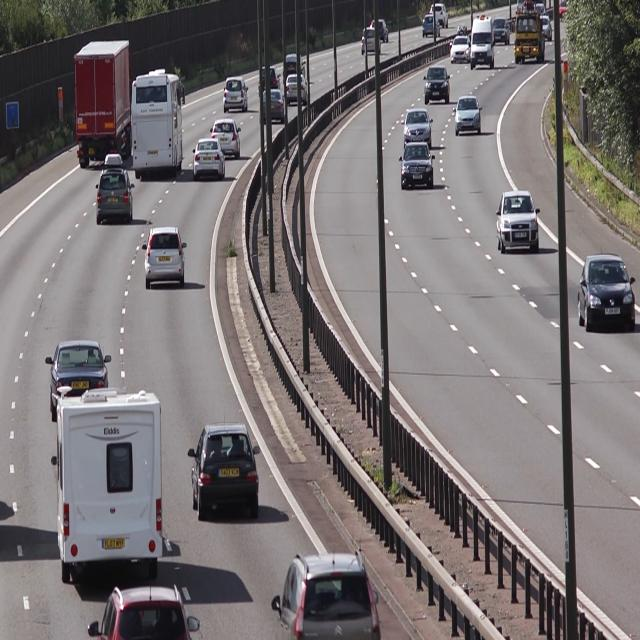Car: (54, 385, 164, 584), (275, 553, 382, 640), (73, 35, 133, 165), (193, 422, 261, 520), (132, 67, 186, 180), (47, 337, 110, 419), (578, 254, 637, 336), (143, 226, 189, 294), (96, 152, 135, 230), (498, 190, 540, 253), (514, 4, 546, 65), (399, 142, 436, 193), (192, 135, 226, 181), (471, 12, 495, 67), (210, 116, 242, 157), (454, 93, 483, 136), (403, 107, 432, 147), (426, 63, 451, 107), (448, 29, 473, 65), (224, 76, 249, 111), (491, 17, 511, 49)
